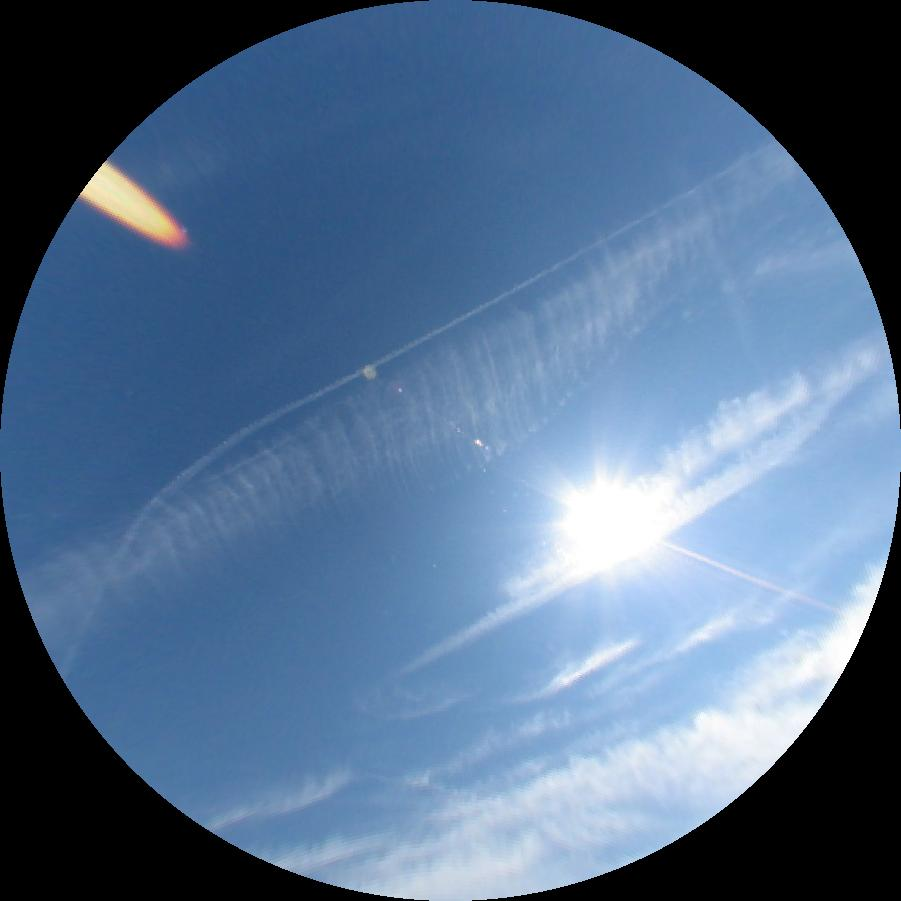contrail old: (58, 142, 782, 680)
contrail veryold: (15, 140, 820, 637), (393, 381, 866, 679), (504, 331, 894, 598), (570, 497, 656, 564), (703, 241, 748, 330), (753, 238, 858, 274)
parasite: (656, 539, 843, 614)
